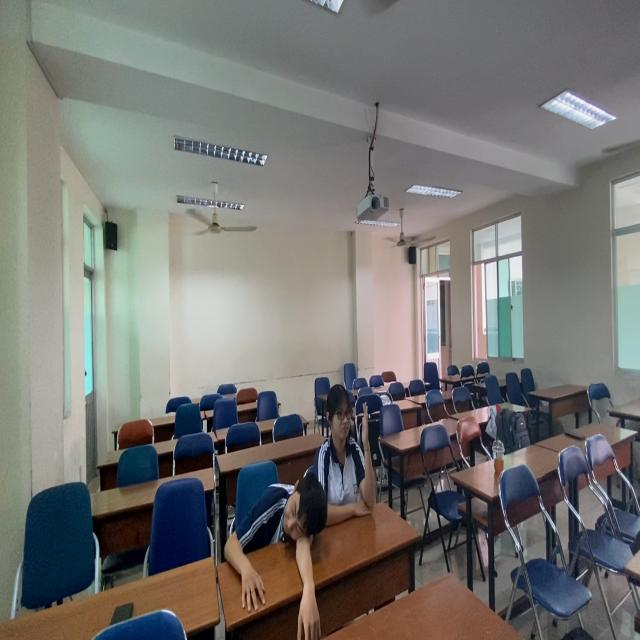raise_hand: (319, 381, 381, 519)
sleep: (221, 468, 329, 640)
